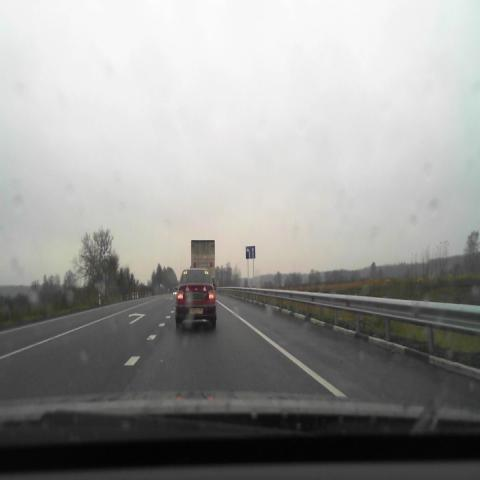5_15_2_2: (246, 245, 255, 259)
